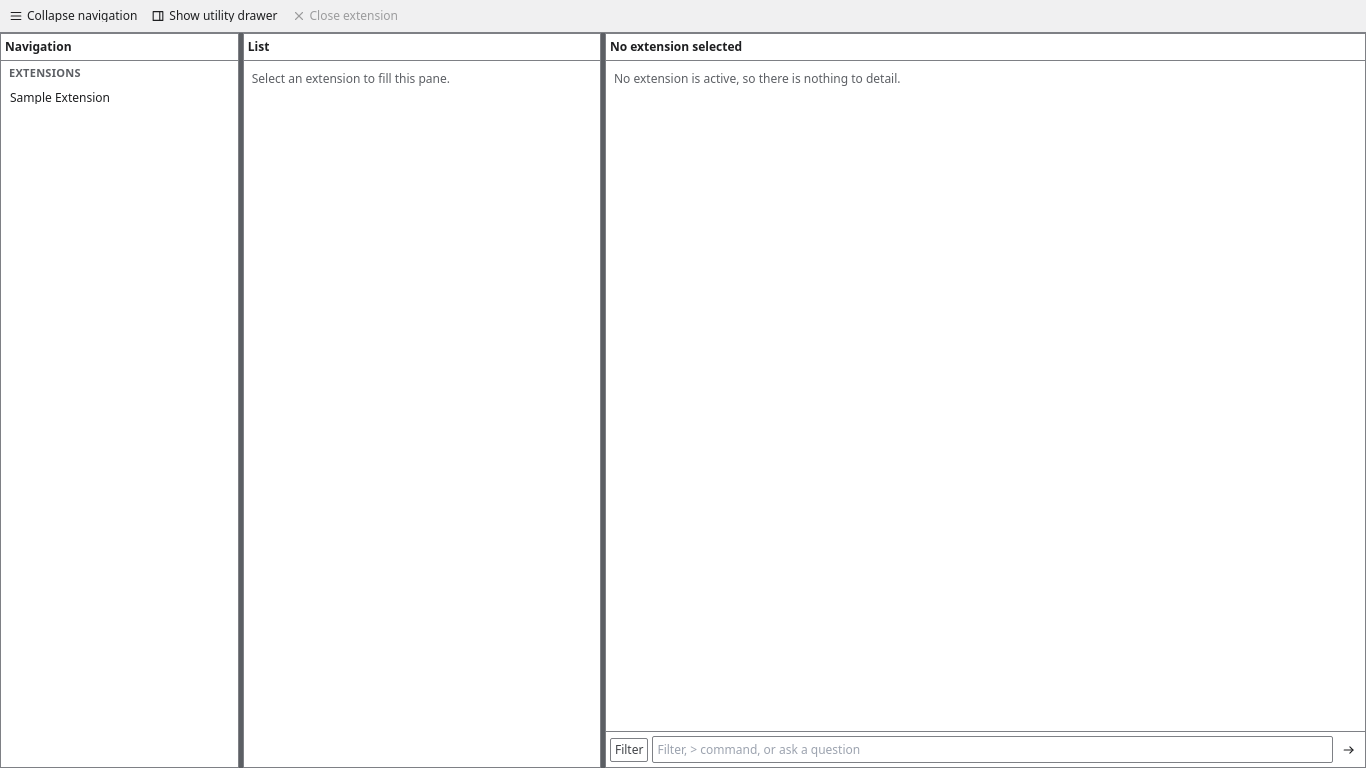
Scenario: ShellLayout — the block ledger it wires › echoes a block submission back rather than pretending to have consumed it
Click the button "Sample Extension".
click(119, 98)  # box [5,86,234,110]
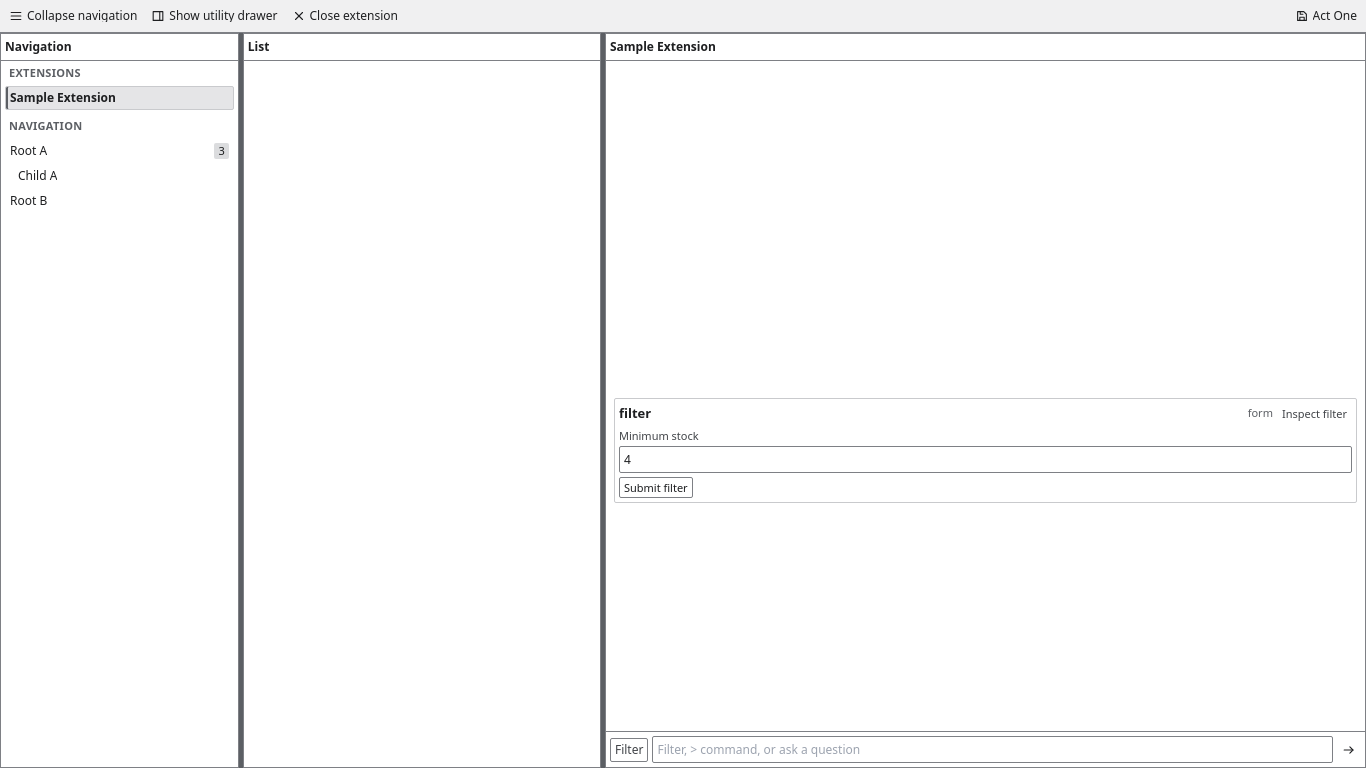
Replace the text in the field labelled "Minimum stock" with "25" at [985, 459], box [619,446,1352,472]
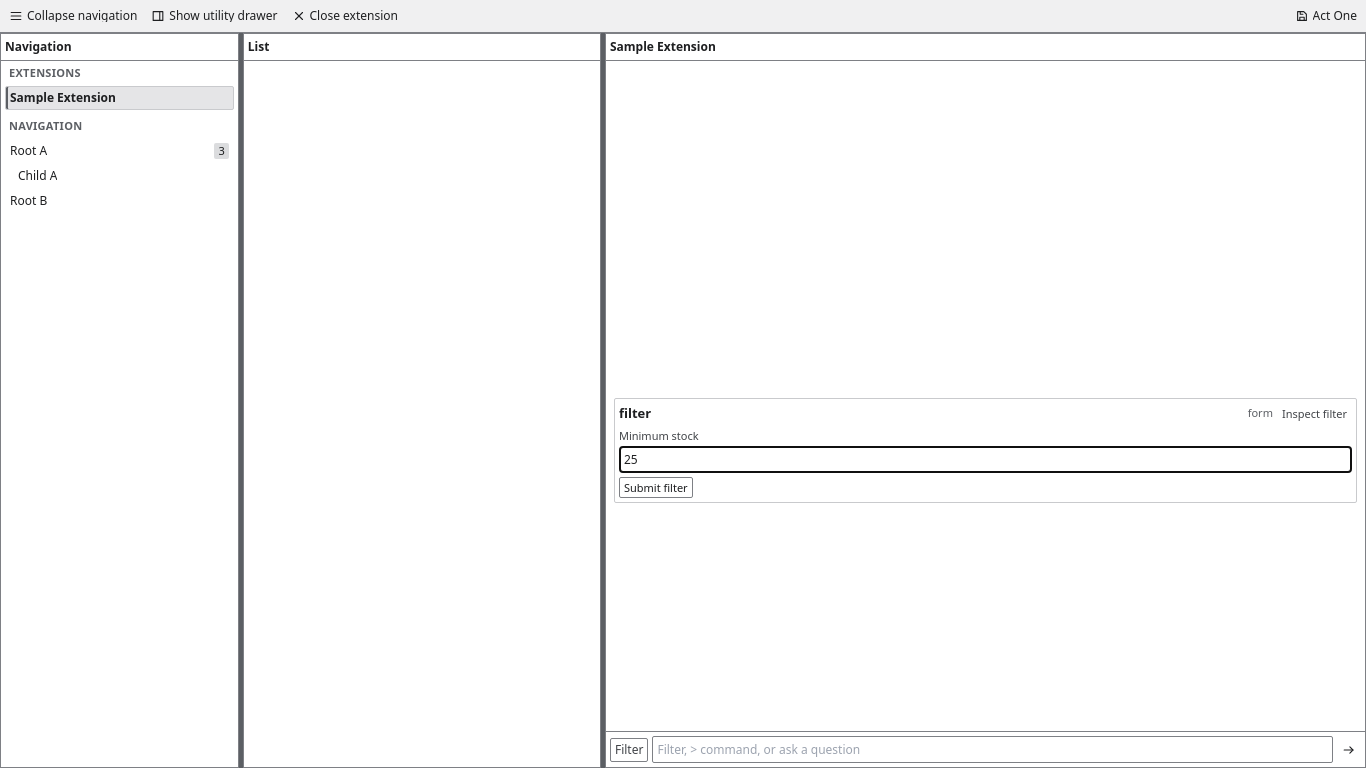
Click the button "Submit filter".
click(656, 487)  # box [619,476,693,498]
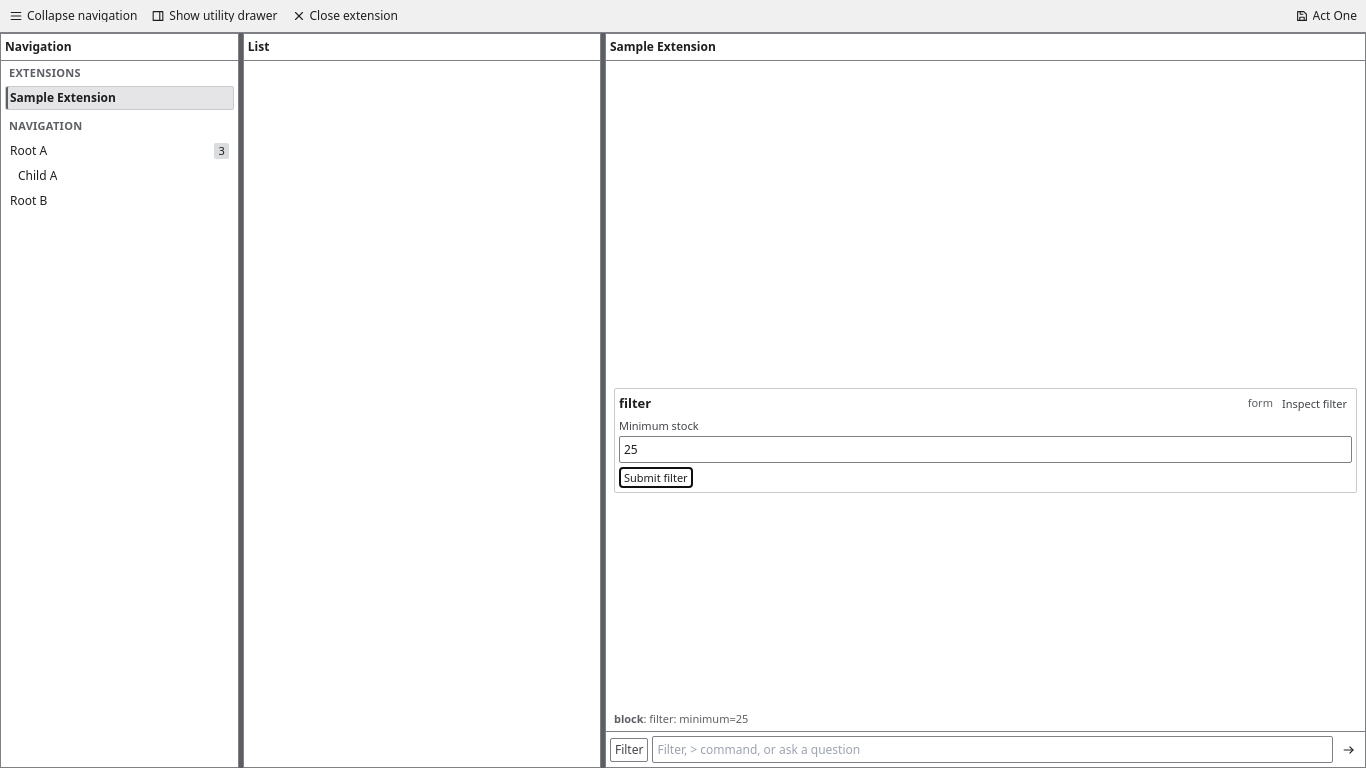
Check: the element showing "block: filter: minimum=25" is shown, box [614,711,748,726]
